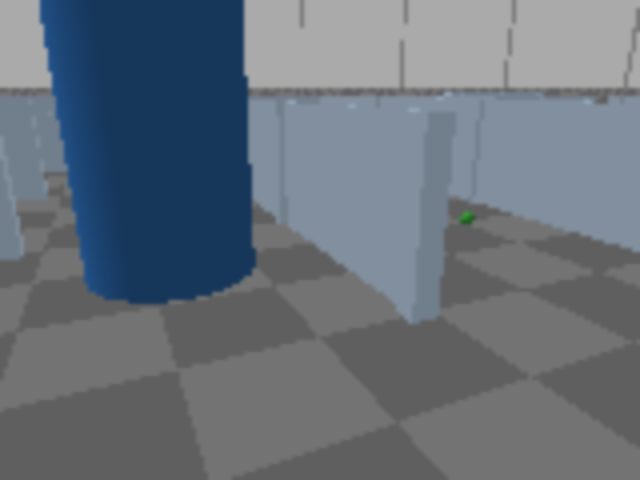puck: (459, 211, 476, 227)
